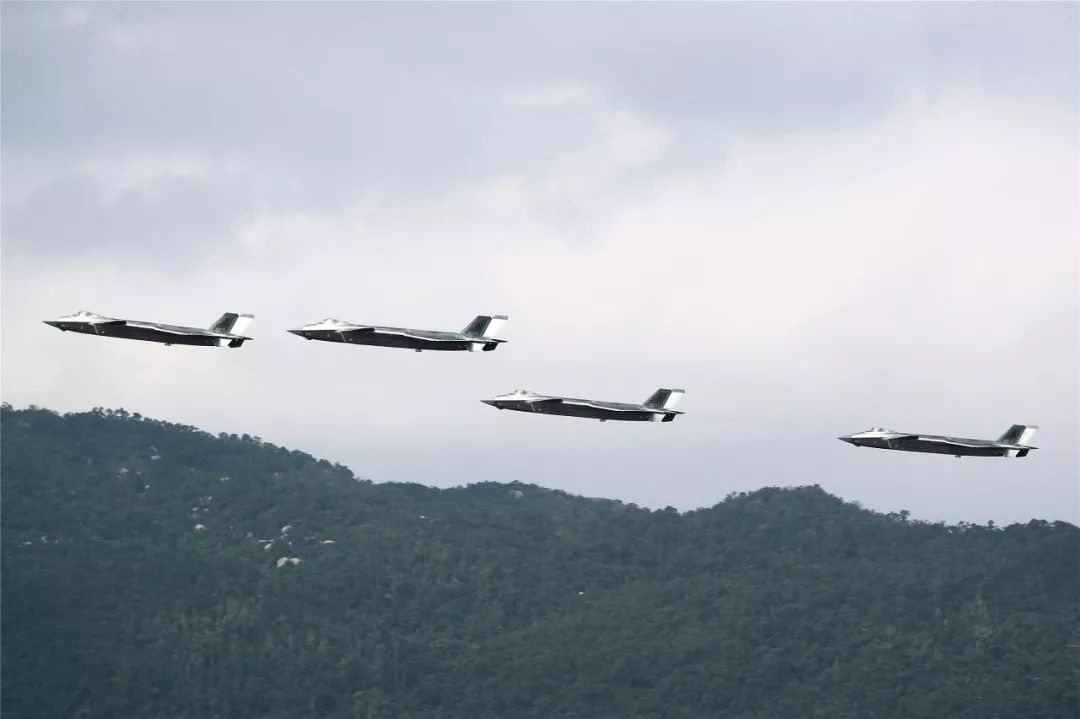J20: (285, 314, 510, 353), (41, 311, 256, 349), (479, 388, 687, 423), (836, 424, 1040, 458)
